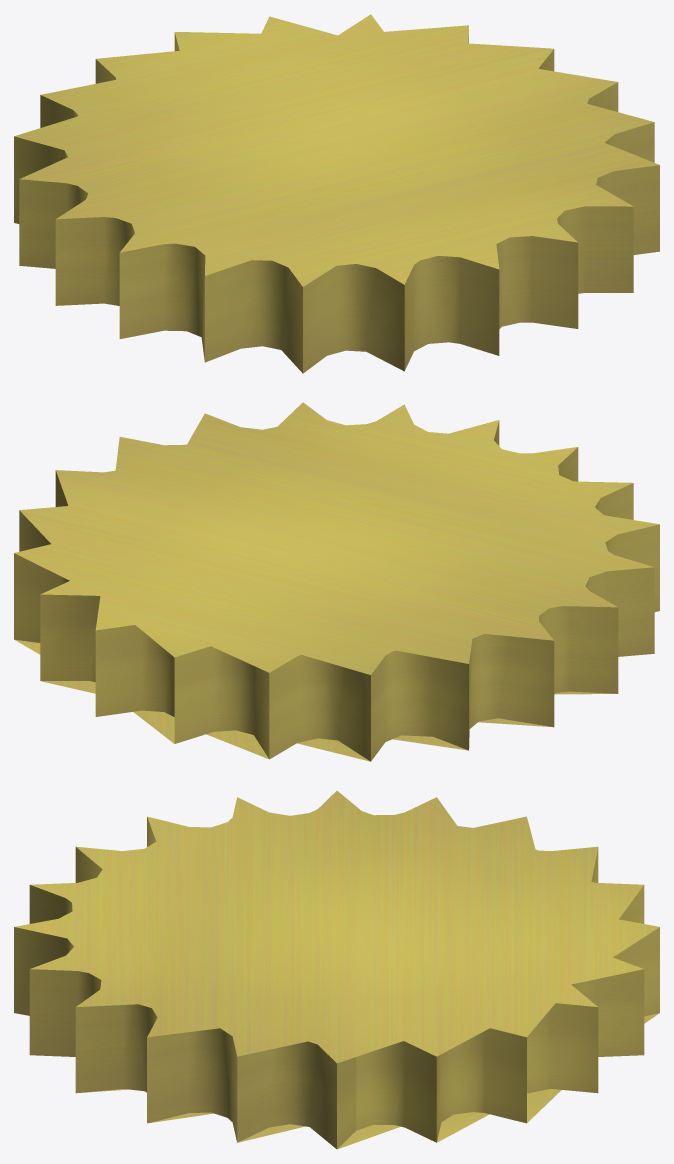
Rendered from SprocketFacet3Spoke020.fbx.
3 renders of one model, top to bottom at view 1: azimuth 30°, elevation 25°; view 2: azimuth 150°, elevation 25°; view 3: azimuth 270°, elevation 25°, orthographic.
Visible parts, largest first — view 1: SprocketFacet3Spoke020; view 2: SprocketFacet3Spoke020; view 3: SprocketFacet3Spoke020.
Boxes of the visible parts, x1=… form: SprocketFacet3Spoke020: x1=14, y1=14, x2=659, y2=373; SprocketFacet3Spoke020: x1=14, y1=402, x2=659, y2=761; SprocketFacet3Spoke020: x1=14, y1=791, x2=659, y2=1149.
Bounding box in the file's own units: 134 × 19.69 × 134.
